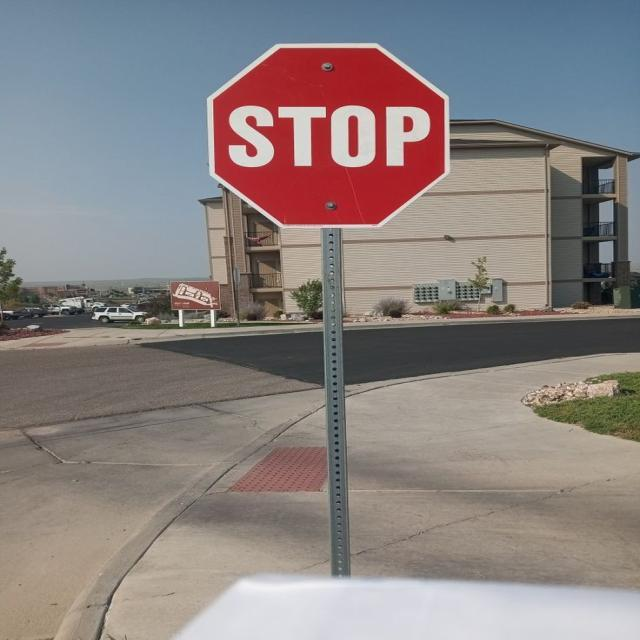stop: (205, 41, 451, 229)
